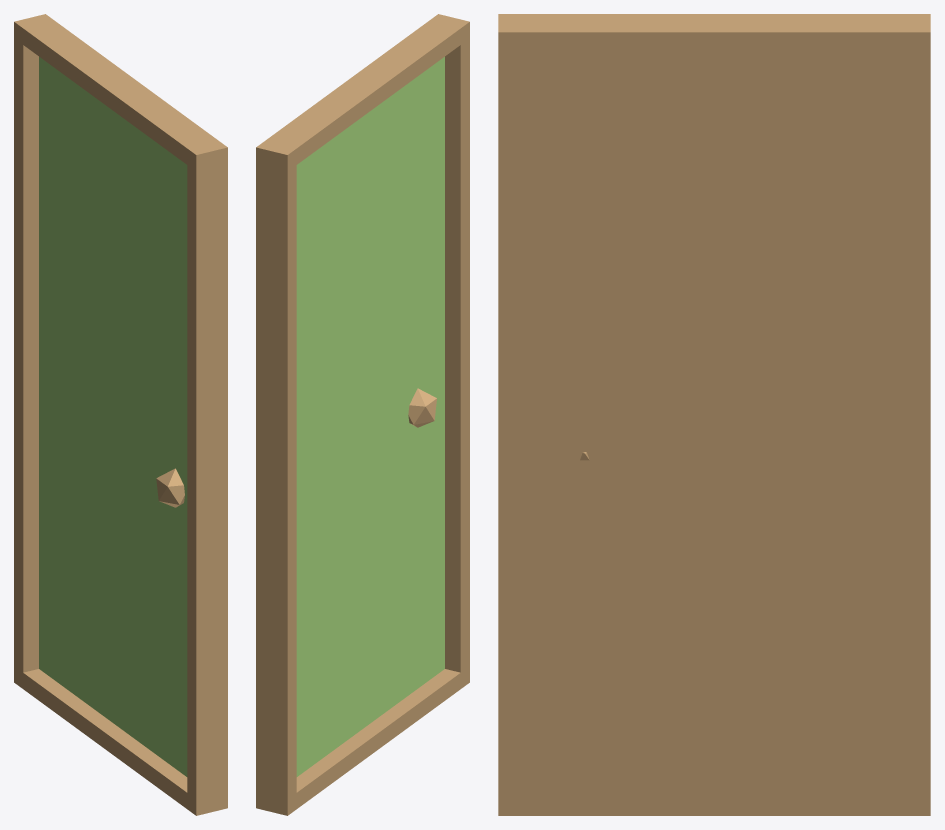
File: Door.fbx
3 renders of one model, left to right at view 1: azimuth 30°, elevation 25°; view 2: azimuth 150°, elevation 25°; view 3: azimuth 270°, elevation 25°, orthographic. The views are drawn at different scales.
Visible parts, largest first — view 1: Door; view 2: Door; view 3: Door.
Boxes of the visible parts, x1,y1,x2,y2 form: Door: (14, 14, 227, 815); Door: (256, 14, 469, 815); Door: (498, 14, 930, 815).
Bounding box in the file's own units: 0.2147 × 2 × 4.
